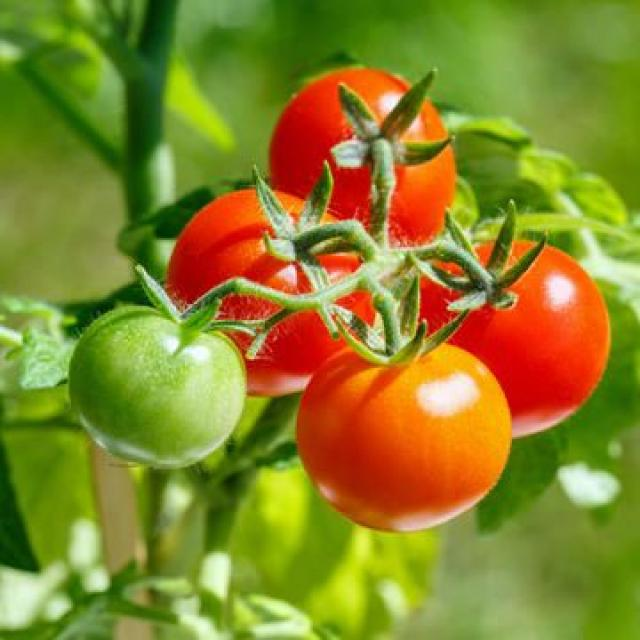level 2: (67, 302, 247, 476)
level 5: (298, 355, 510, 534)
level 6: (175, 185, 376, 398), (406, 235, 615, 435), (268, 70, 461, 255)
